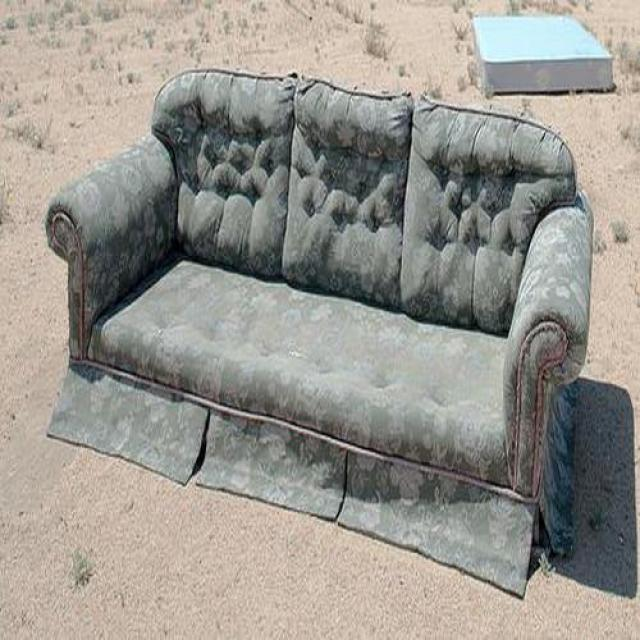sofa: (46, 69, 594, 599)
